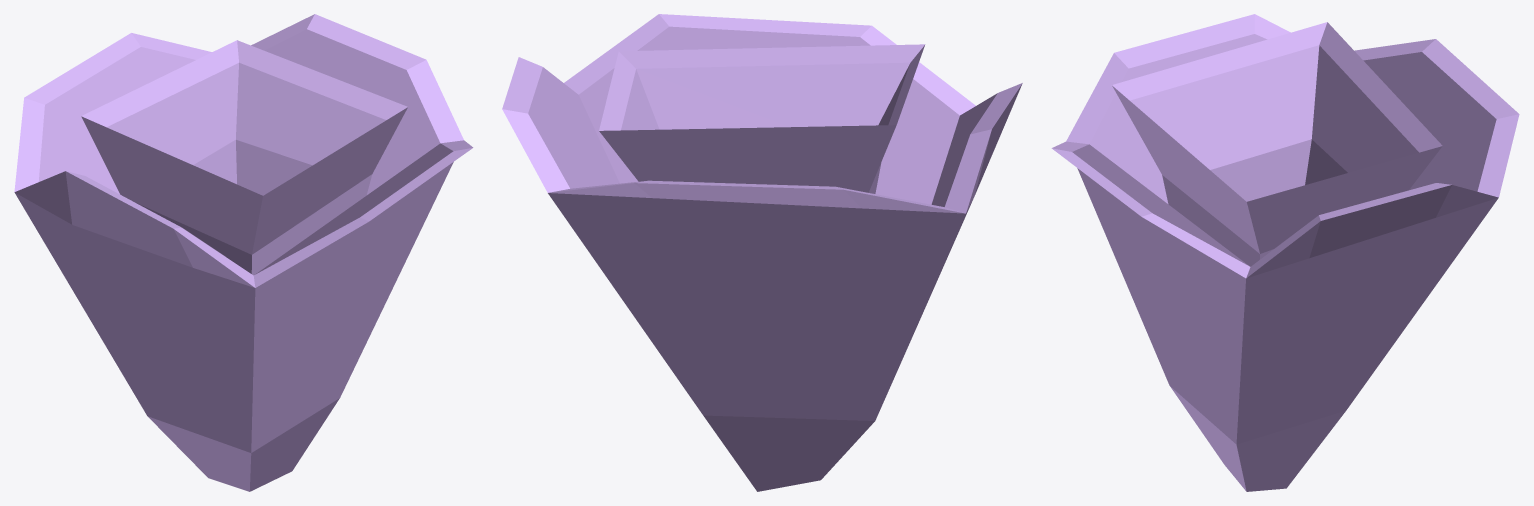
The model's file is flower_purple.glb.
The picture shows the model from 3 angles, left to right: view 1: azimuth 30°, elevation 25°; view 2: azimuth 150°, elevation 25°; view 3: azimuth 270°, elevation 25°; orthographic projection. The views are drawn at different scales.
Parts seen in each view (by area): view 1: Icosphere; view 2: Icosphere; view 3: Icosphere.
Boxes of the visible parts, x1,y1,x2,y2 form: Icosphere: (14,14,473,491); Icosphere: (502,14,1022,491); Icosphere: (1051,14,1519,491).
Size of the model in its own units: 0.0935 by 0.0829 by 0.0894.
